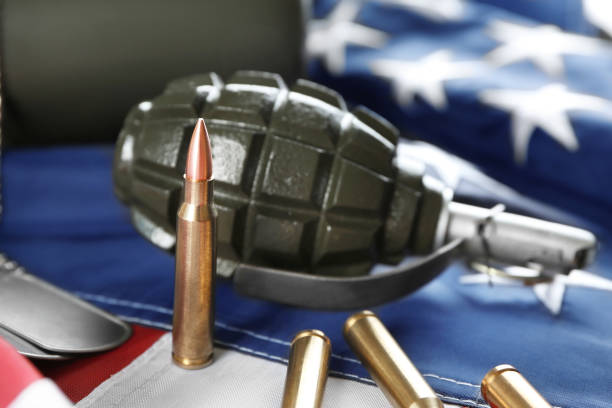e1: (118, 65, 599, 300)
